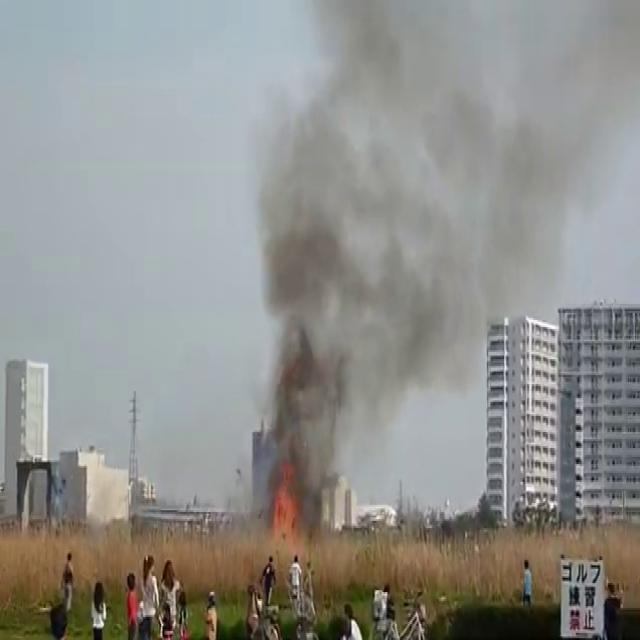Fire: (265, 480, 309, 558)
Smoke: (244, 0, 616, 524)
